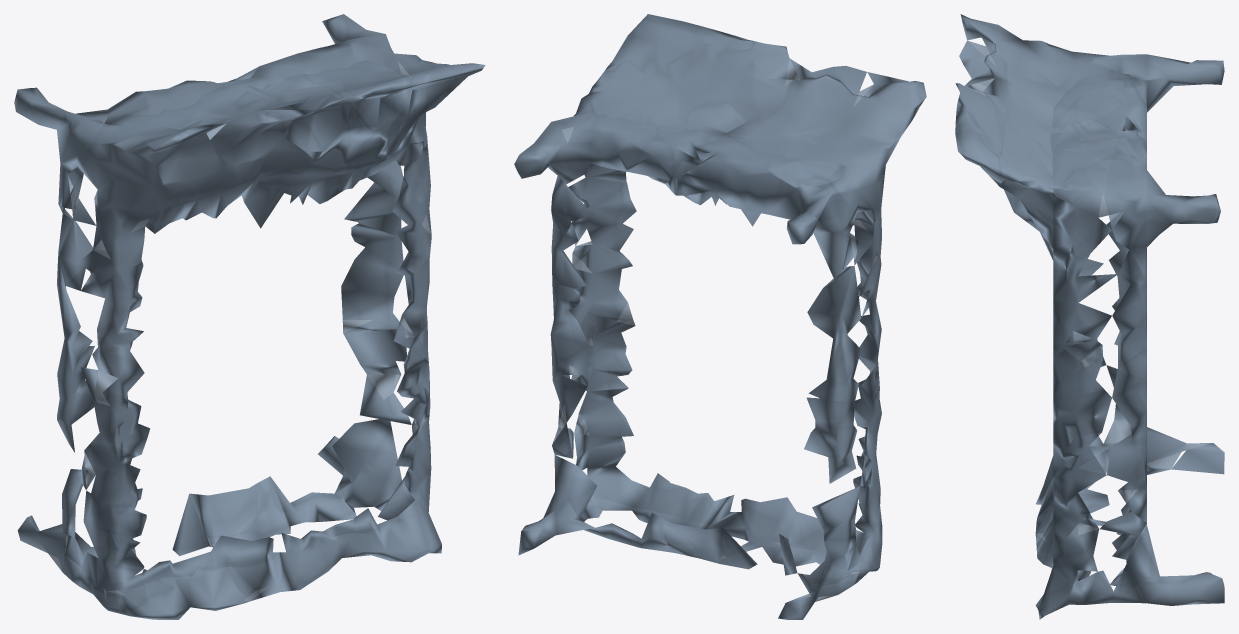
Rendered from sample_100_orig.obj.
The picture shows the model from 3 angles, left to right: view 1: azimuth 30°, elevation 25°; view 2: azimuth 150°, elevation 25°; view 3: azimuth 270°, elevation 25°; orthographic projection. The views are drawn at different scales.
Bounding box in the file's own units: 0.9849 × 1.5 × 0.7802.
